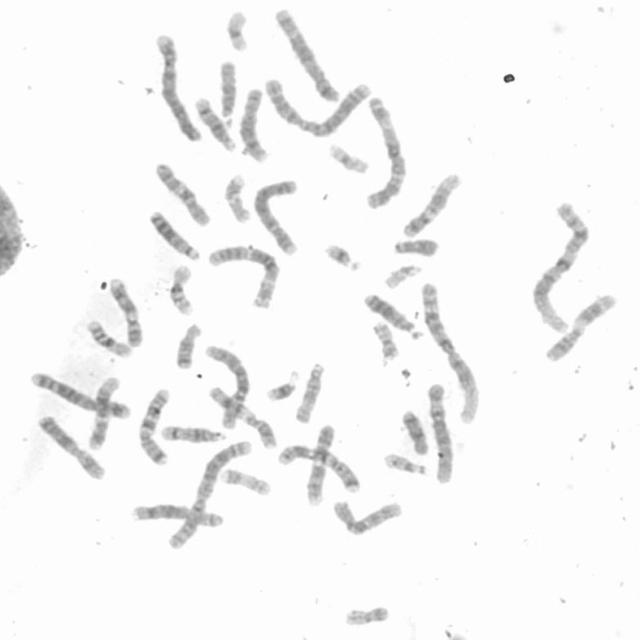A1: (417, 276, 483, 425), (528, 198, 590, 334)
A2: (164, 434, 256, 552), (258, 71, 375, 139)
A3: (361, 92, 409, 210), (205, 241, 281, 309)
B4: (151, 28, 204, 144), (249, 175, 302, 257)
B5: (272, 3, 343, 104), (26, 366, 134, 421)
C10: (150, 158, 214, 228), (329, 495, 405, 537)
C11: (540, 289, 620, 364), (205, 382, 279, 449)
C12: (398, 167, 464, 239), (83, 372, 121, 450)
C6: (201, 340, 252, 428), (423, 378, 457, 485)
C7: (274, 440, 363, 494), (135, 383, 173, 467)
C8: (128, 498, 227, 529), (236, 84, 270, 164)
C9: (302, 420, 338, 508), (104, 273, 146, 348)
D13: (360, 288, 424, 340), (145, 205, 202, 262)
D14: (191, 91, 238, 152), (158, 420, 228, 444)
D15: (292, 358, 326, 425), (215, 55, 238, 125)
E16: (83, 315, 135, 359), (164, 260, 198, 316)
E17: (217, 463, 273, 498), (221, 170, 254, 223)
E18: (398, 406, 431, 456), (172, 319, 204, 370)
F19: (324, 139, 372, 175), (222, 6, 251, 54)
F20: (368, 318, 401, 361), (340, 601, 391, 627)
G21: (320, 238, 364, 273), (263, 367, 301, 403)
G22: (379, 448, 428, 476), (381, 260, 424, 290)
X: (34, 410, 108, 481)
Y: (390, 234, 440, 258)
